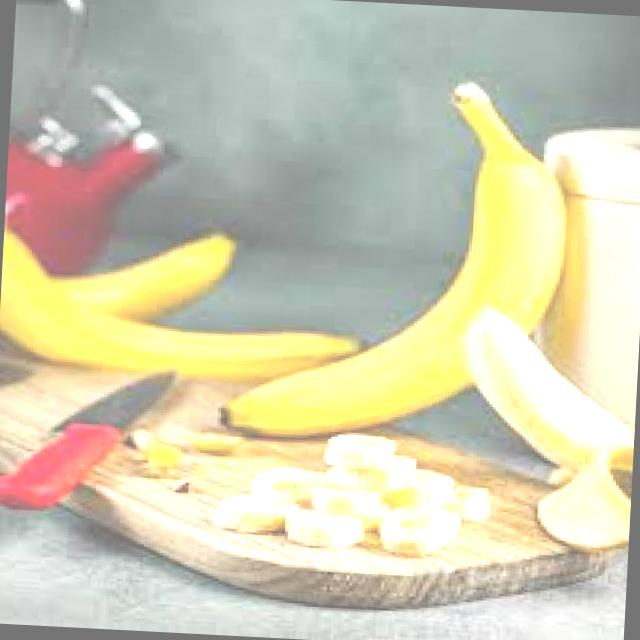Banana: (217, 67, 576, 451), (0, 200, 371, 388)
